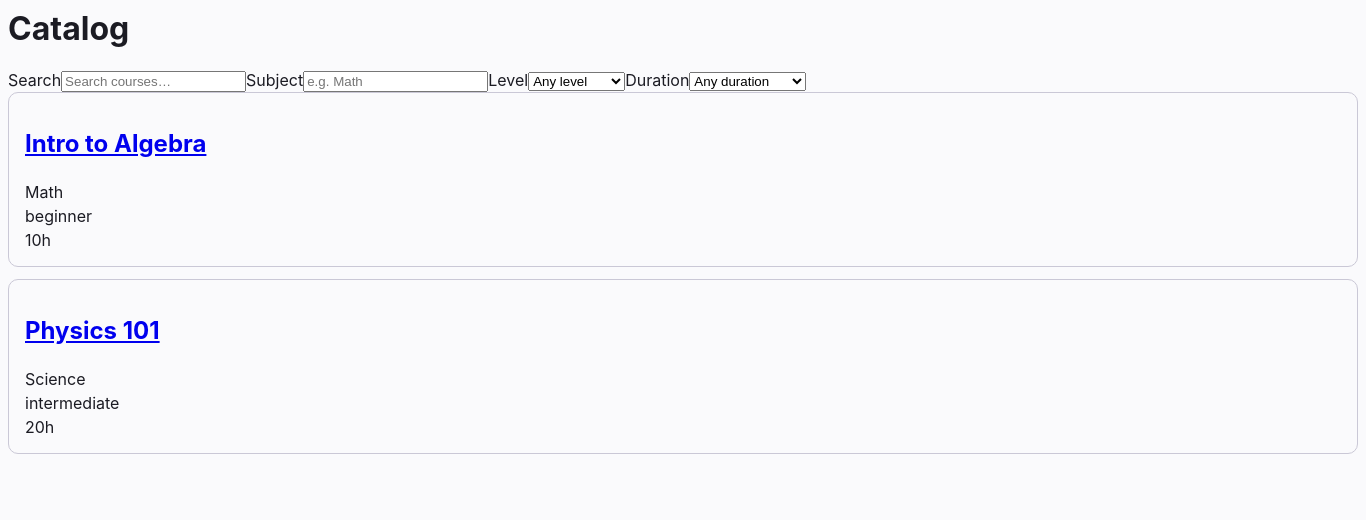
CatalogPage › removing a chip re-fetches without that filter
Check: the link "Intro to Algebra" is shown, box left=25, top=129, right=206, bottom=158
Select "Beginner" in the dropdown labelled "Level" at point(577, 81), box left=528, top=72, right=625, bottom=91
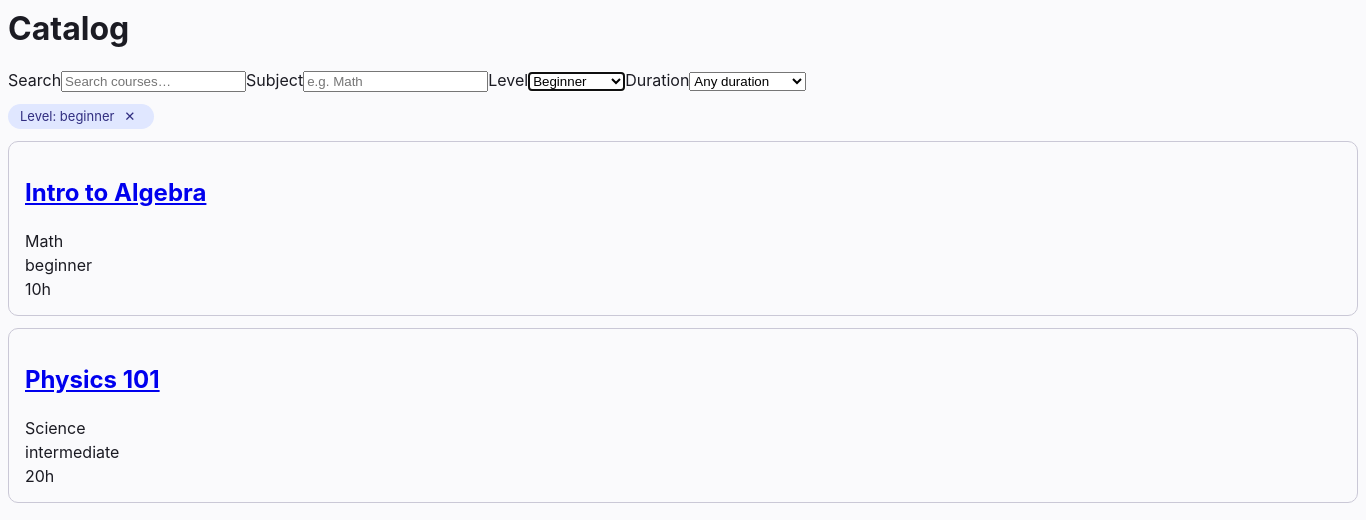
Check: the list item "Level: beginner" is shown, box left=20, top=108, right=114, bottom=124
Click the button named "Remove filter: Level: beginner" at point(130, 116), box left=118, top=108, right=142, bottom=125
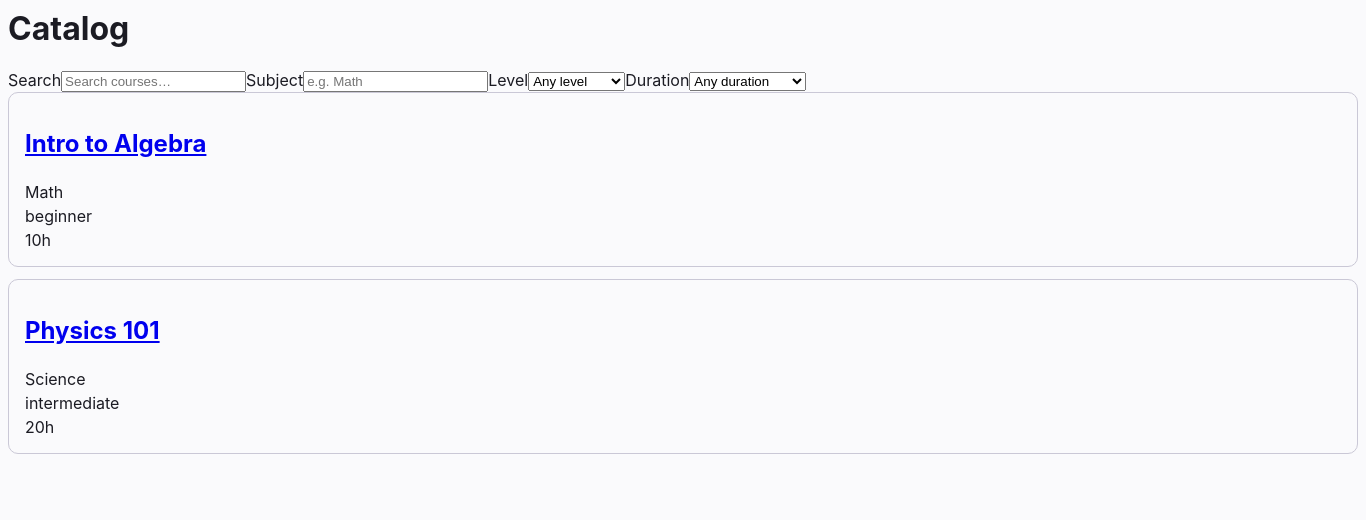
Check: the list item "Level: beginner" is gone
